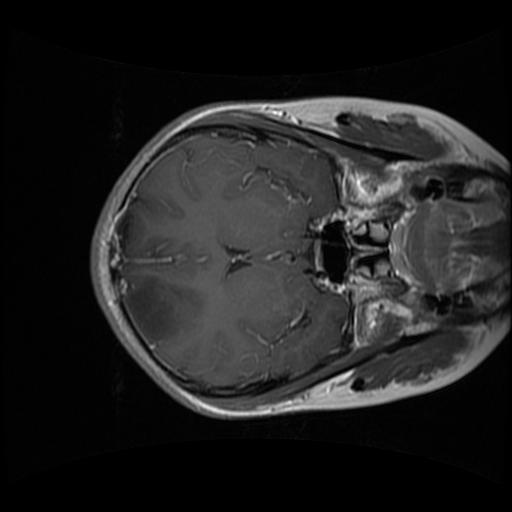glioma: (122, 269, 205, 346)
